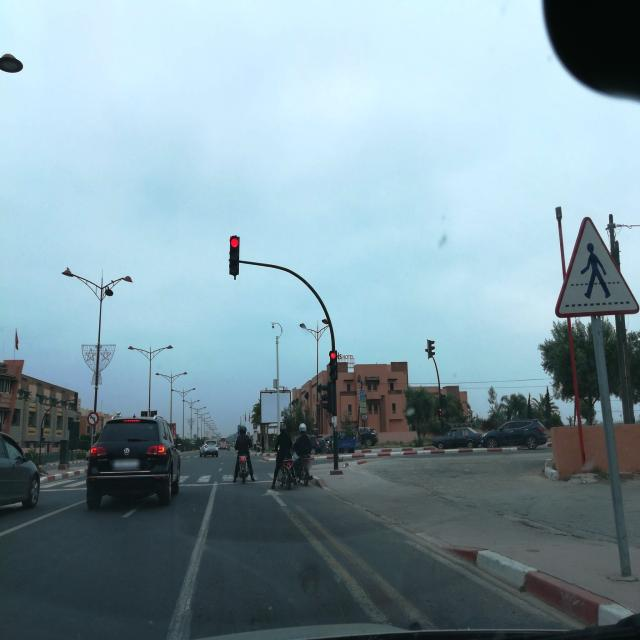bike: (293, 446, 317, 484), (275, 448, 296, 488), (234, 446, 252, 483)
car: (89, 415, 184, 511), (0, 427, 41, 528), (481, 418, 549, 450), (432, 426, 484, 449), (326, 431, 358, 455), (356, 427, 378, 447), (200, 439, 219, 458), (219, 438, 229, 450)
